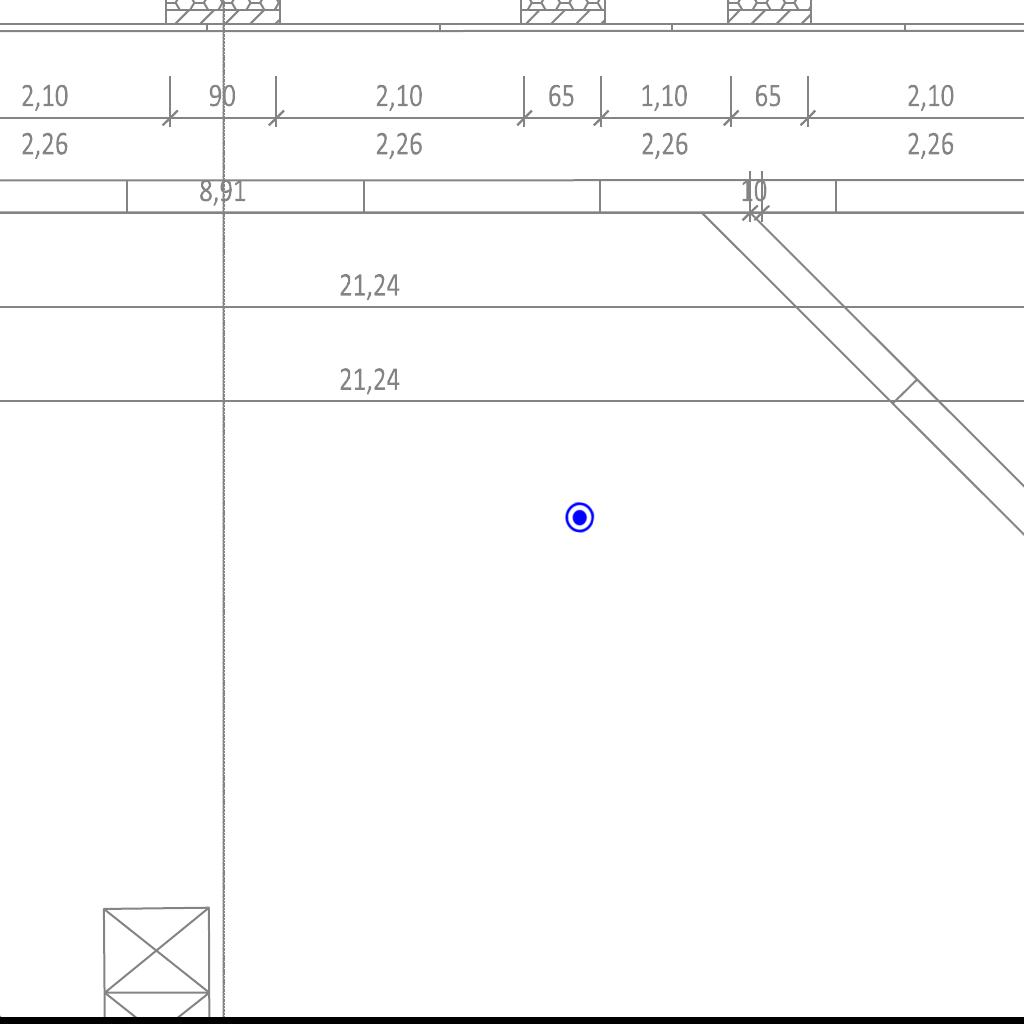Taster: (561, 500, 596, 535)
